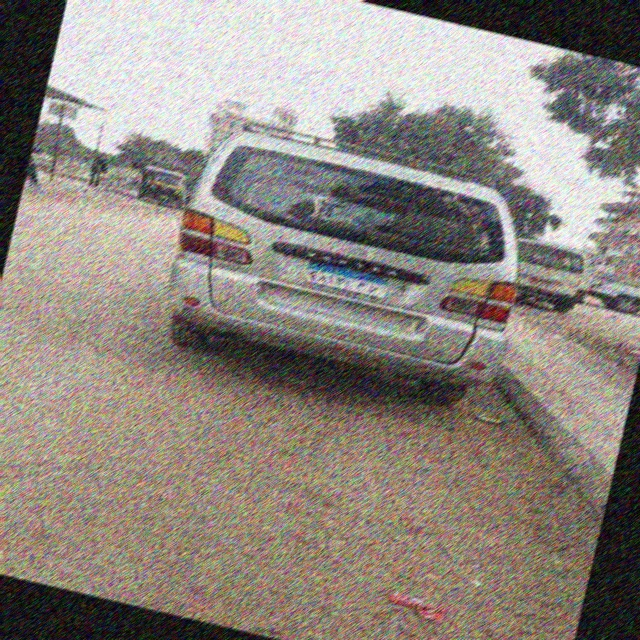License Plate: (301, 258, 392, 301)
